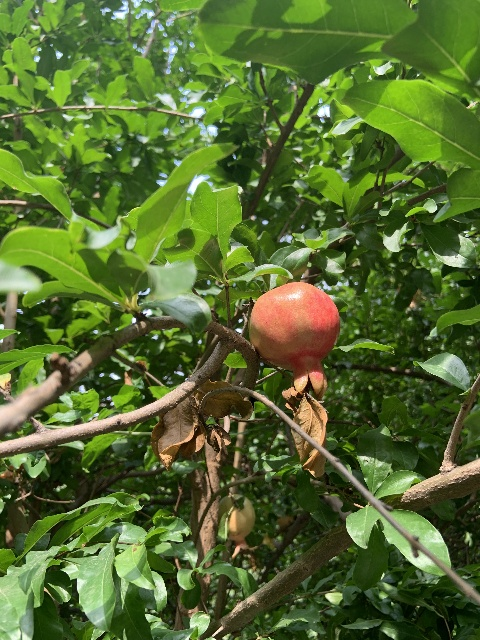ripe: (248, 281, 340, 400)
